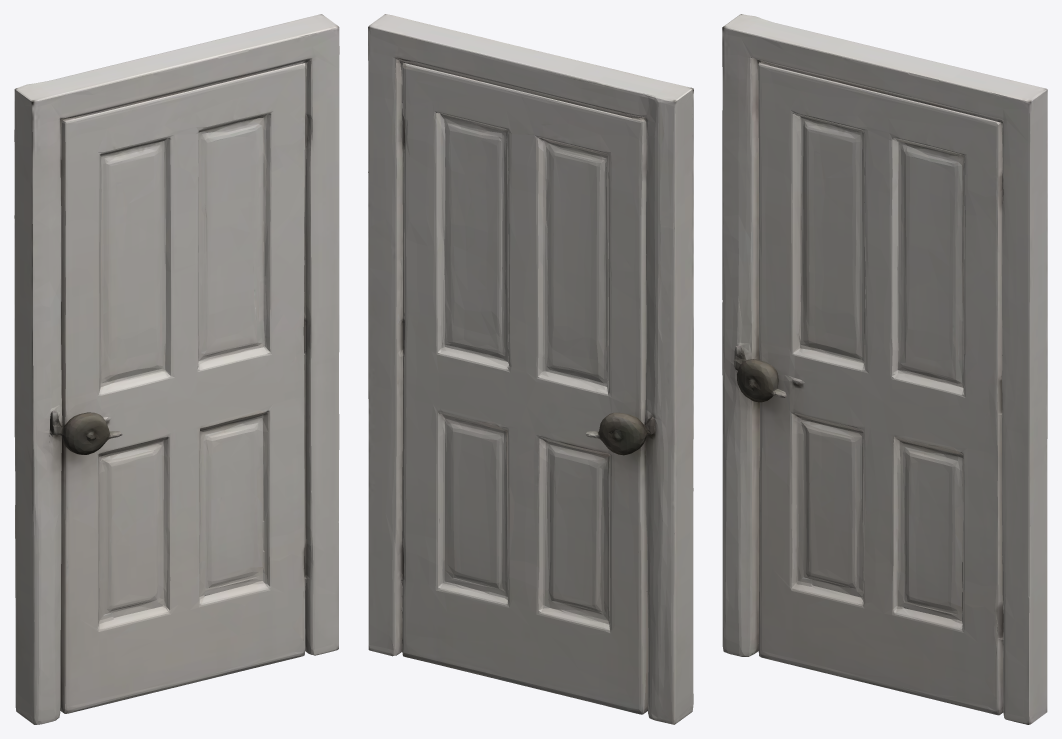
The model's file is door.glb.
The picture shows the model from 3 angles, left to right: view 1: azimuth 30°, elevation 25°; view 2: azimuth 150°, elevation 25°; view 3: azimuth 330°, elevation 25°; orthographic projection.
Parts seen in each view (by area): view 1: world; view 2: world; view 3: world.
Boxes of the visible parts, x1,y1,x2,y2 form: world: (14,14,339,724); world: (368,14,693,724); world: (722,14,1047,724).
Size of the model in its own units: 0.5166 by 1 by 0.1432.
Materials: 1 (1 with a texture image).
